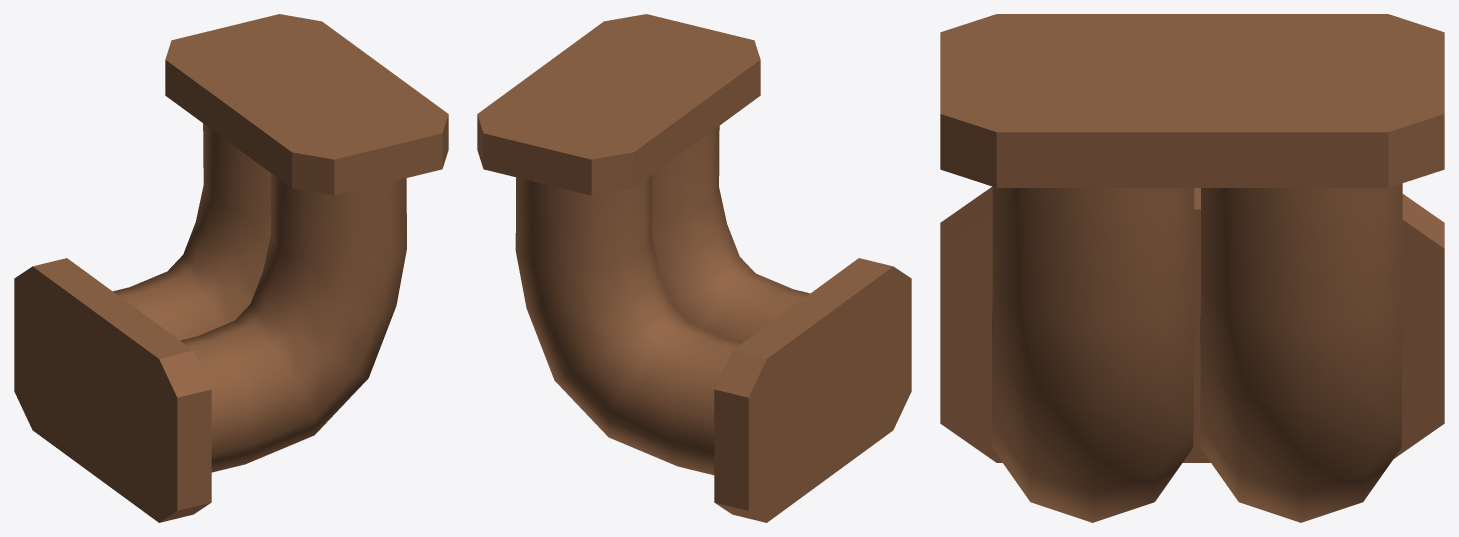
Rendered from Pfb_Soda_Pipe__3.fbx.
The picture shows the model from 3 angles, left to right: view 1: azimuth 30°, elevation 25°; view 2: azimuth 150°, elevation 25°; view 3: azimuth 270°, elevation 25°; orthographic projection. The views are drawn at different scales.
Parts seen in each view (by area): view 1: MAT_Soda_Pipe 2; view 2: MAT_Soda_Pipe 2; view 3: MAT_Soda_Pipe 2.
Part boxes in pixels (box(x1,y1,x2,y2)): MAT_Soda_Pipe 2: box(14, 14, 448, 522); MAT_Soda_Pipe 2: box(477, 14, 911, 522); MAT_Soda_Pipe 2: box(940, 14, 1444, 522).
Bounding box in the file's own units: 0.7322 × 0.8177 × 0.7141.
Materials: 1 (1 with a texture image).
